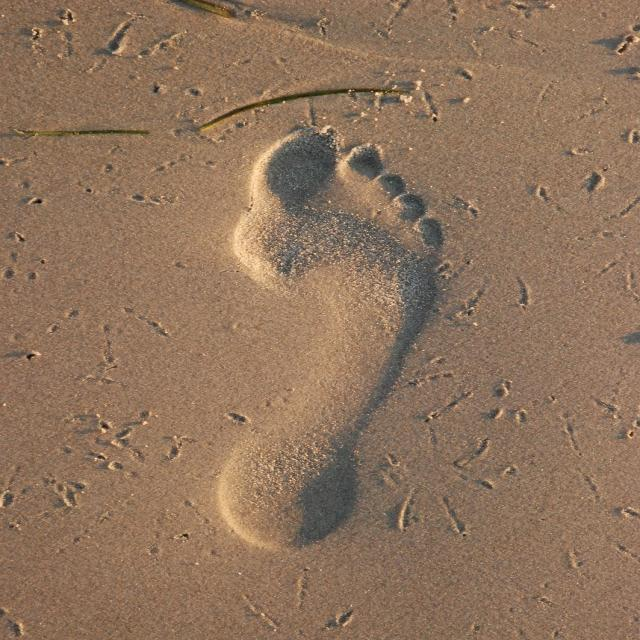human_footprint: (208, 118, 453, 555)
